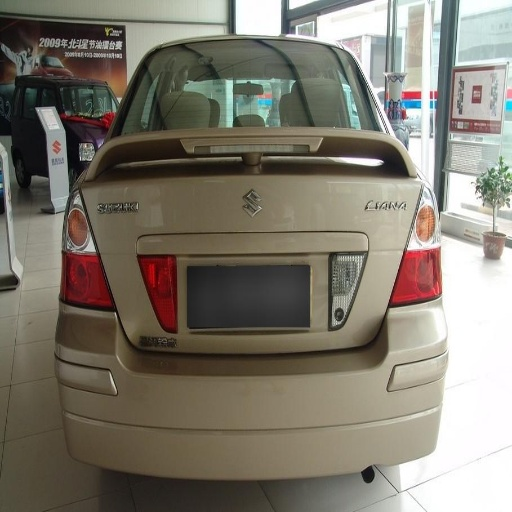back_bumper: (61, 299, 445, 481)
tailgate: (79, 132, 420, 361)
